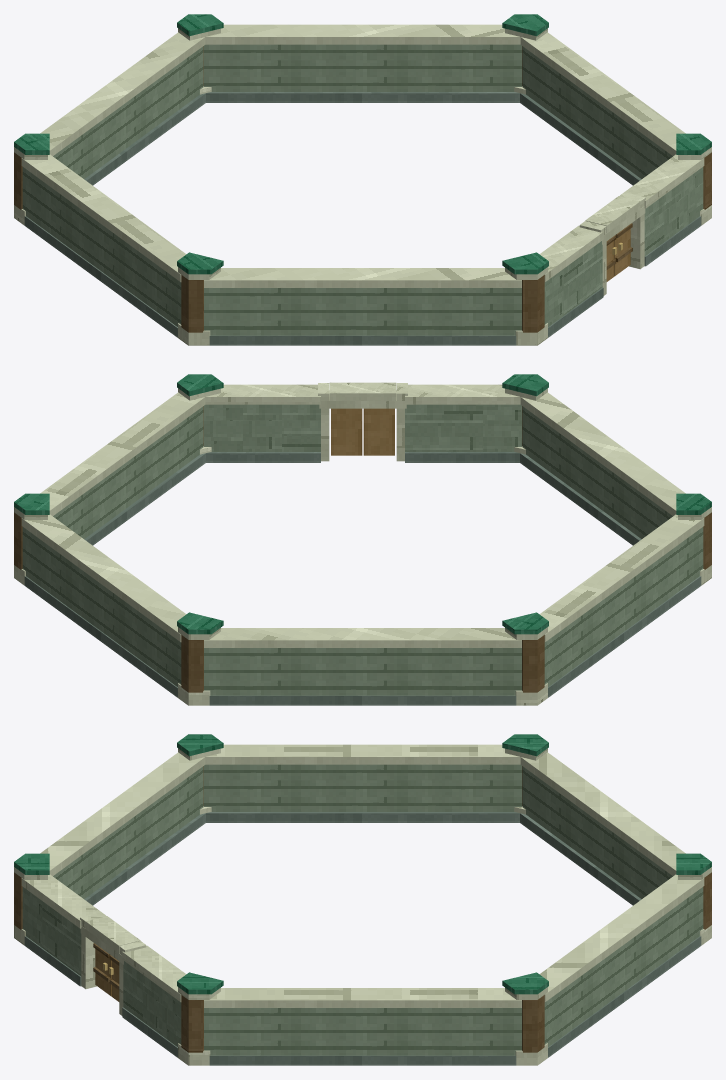
File: elf_walls_level_1_hex_v1.glb
3 views of the same model, one above another, from view 1: azimuth 30°, elevation 25°; view 2: azimuth 150°, elevation 25°; view 3: azimuth 270°, elevation 25° (orthographic).
Visible parts, largest first — view 1: Elf_Walls_Level_1_Hex_V1_Architecture; view 2: Elf_Walls_Level_1_Hex_V1_Architecture; view 3: Elf_Walls_Level_1_Hex_V1_Architecture.
Boxes of the visible parts, <box> form: Elf_Walls_Level_1_Hex_V1_Architecture: <box>14,14,711,345</box>; Elf_Walls_Level_1_Hex_V1_Architecture: <box>14,374,711,705</box>; Elf_Walls_Level_1_Hex_V1_Architecture: <box>14,734,711,1065</box>.
Size of the model in its own units: 1.71 by 0.237 by 1.97.
Materials: 1 (1 with a texture image).
